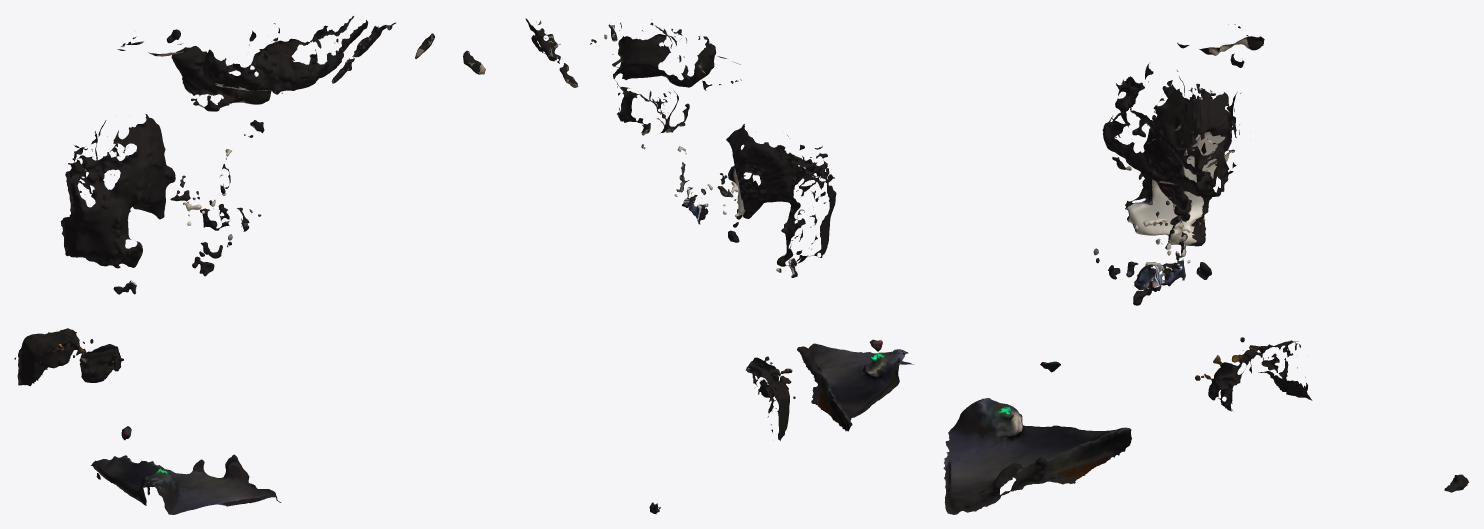
The model's file is chocolate.glb.
3 renders of one model, left to right at view 1: azimuth 30°, elevation 25°; view 2: azimuth 150°, elevation 25°; view 3: azimuth 270°, elevation 25°, orthographic. The views are drawn at different scales.
Bounding box in the file's own units: 4.08 × 4.07 × 4.07.
1 material, 1 textured.
